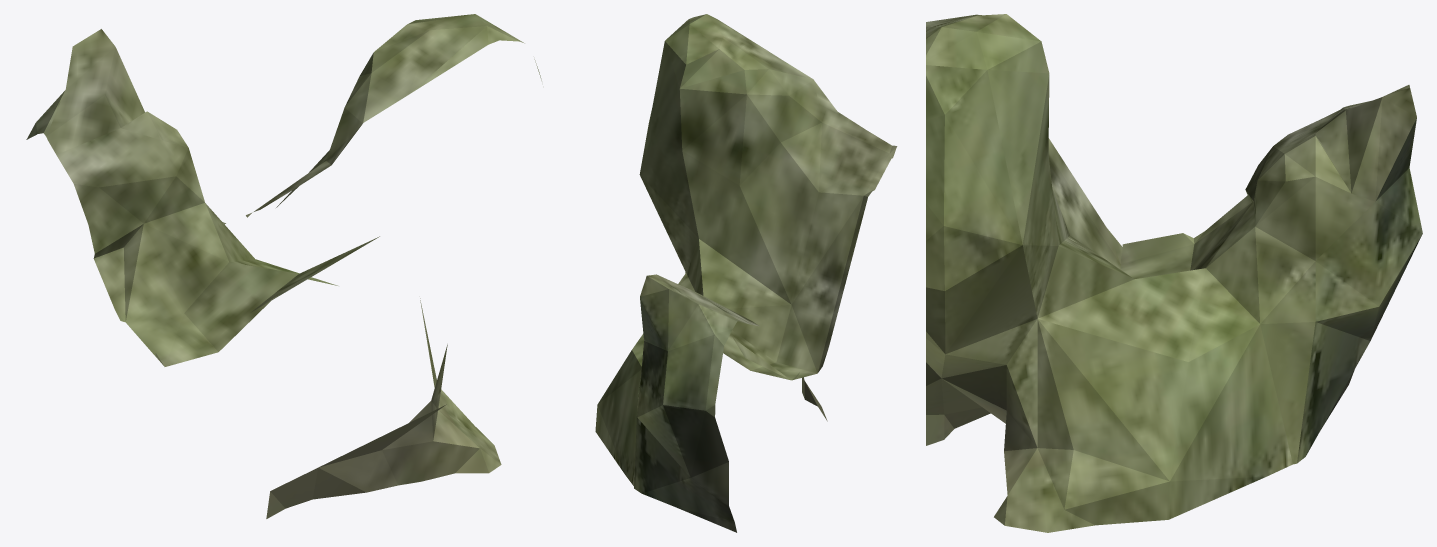
The picture shows the model from 3 angles, left to right: view 1: azimuth 30°, elevation 25°; view 2: azimuth 150°, elevation 25°; view 3: azimuth 270°, elevation 25°; orthographic projection. The views are drawn at different scales.
Size of the model in its own units: 0.9234 by 1.32 by 1.24.
1 material, 1 textured.
